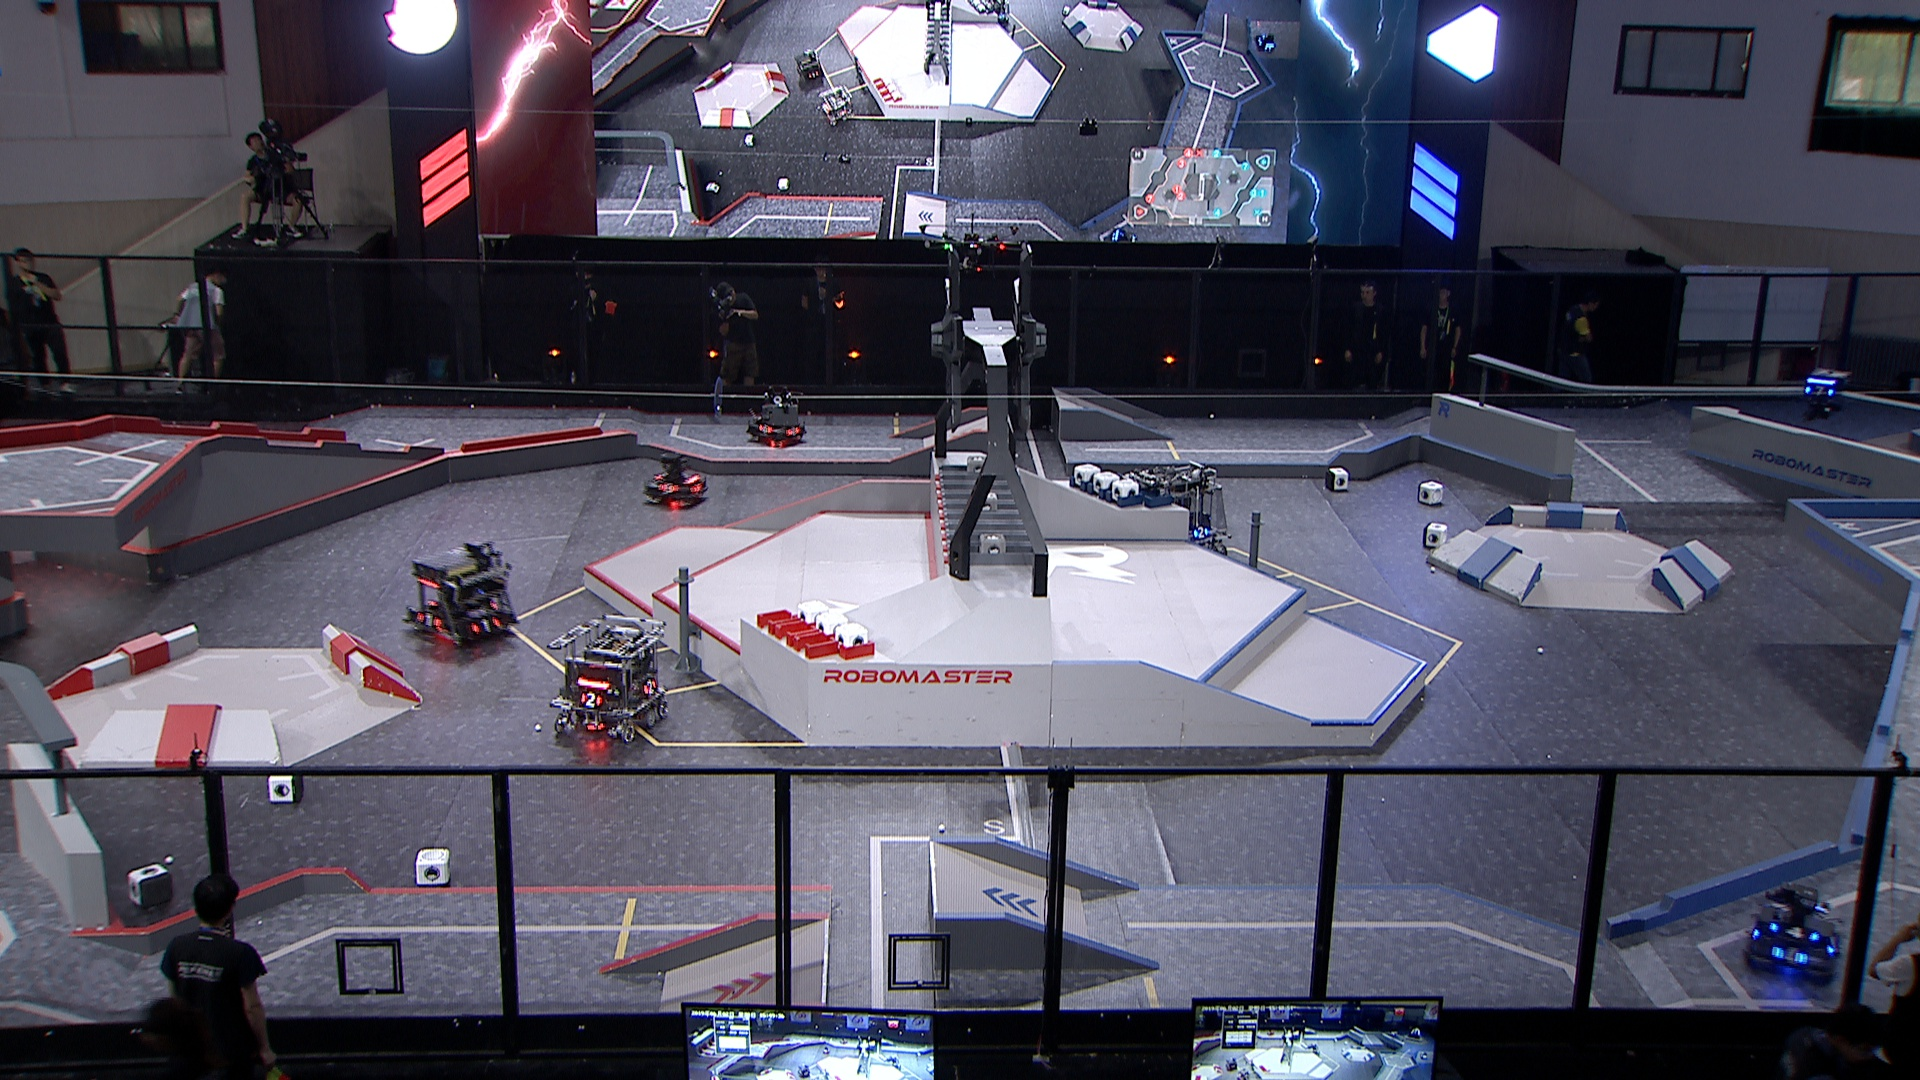armor: (1768, 920, 1818, 944), (1770, 945, 1807, 965), (467, 617, 501, 633), (1803, 384, 1837, 398), (579, 690, 603, 709), (417, 612, 442, 629), (1188, 524, 1211, 541), (641, 679, 659, 698), (659, 481, 680, 495), (757, 423, 775, 436), (785, 425, 802, 436), (688, 483, 704, 495)
car: (550, 615, 674, 740), (401, 538, 524, 651), (1127, 458, 1234, 562), (1741, 880, 1842, 984), (638, 451, 709, 510), (745, 392, 808, 448)
ignore: (820, 83, 855, 127), (794, 50, 825, 83), (1254, 32, 1278, 53), (1109, 228, 1139, 244)
watcher: (1797, 367, 1850, 425)
